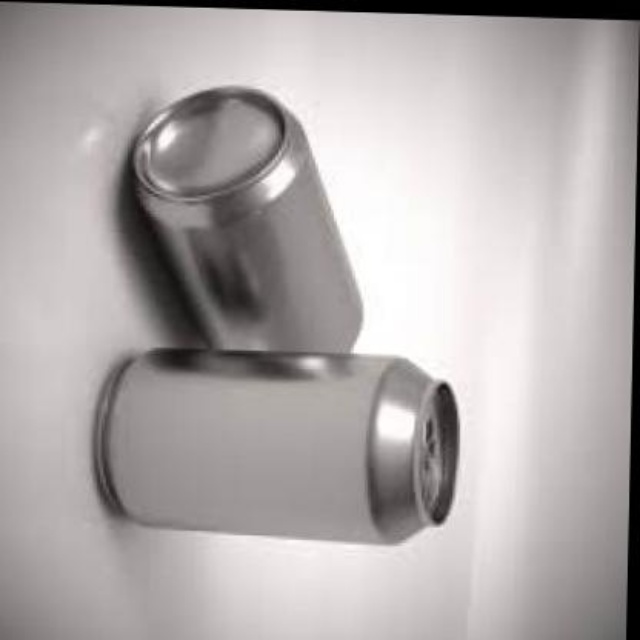trash: (94, 86, 457, 542), (94, 349, 457, 542), (132, 88, 362, 351)
